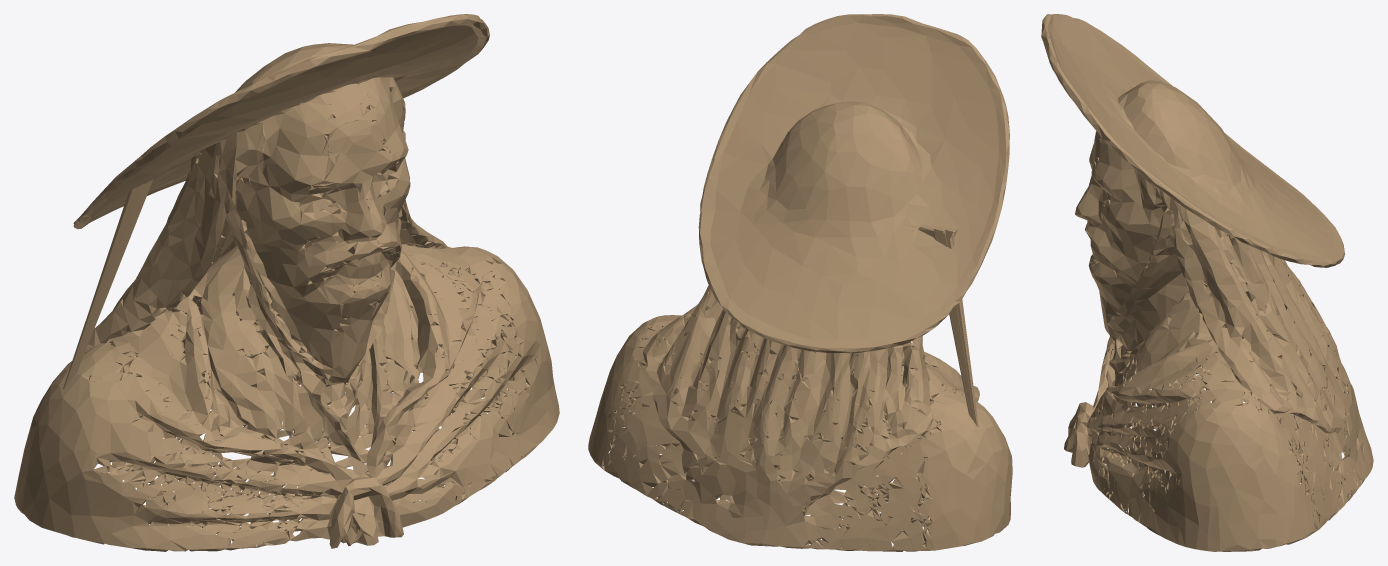
File: lizicheng_good.glb
The picture shows the model from 3 angles, left to right: view 1: azimuth 30°, elevation 25°; view 2: azimuth 150°, elevation 25°; view 3: azimuth 270°, elevation 25°; orthographic projection. The views are drawn at different scales.
Visible parts, largest first — view 1: Node1; view 2: Node1; view 3: Node1.
Boxes of the visible parts, <box> form: Node1: <box>14,14,559,551</box>; Node1: <box>588,14,1012,551</box>; Node1: <box>1041,14,1373,551</box>.
Size of the model in its own units: 1.96 by 1.93 by 1.38.
